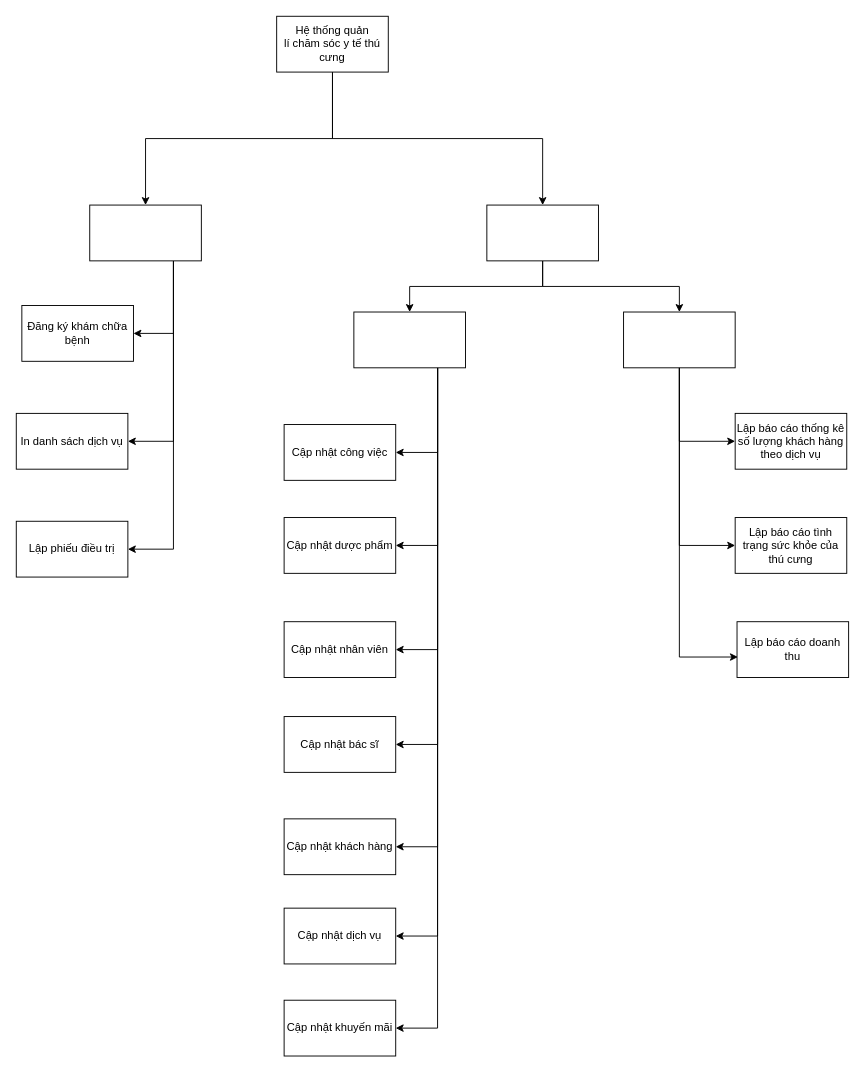
Some shapes in this 865 by 1072 pixel diagram are drawn without their labels. The shapes that lost their labels are listed below. From the top down, each one's centre as x and y in pixels, then its label:
At (145,232): "Quản lí đăng ký khám chữa bệnh".
At (542,232): "Quản lí điều hành".
At (409,339): "Quản lí danh mục".
At (679,339): "Quản lí báo".
